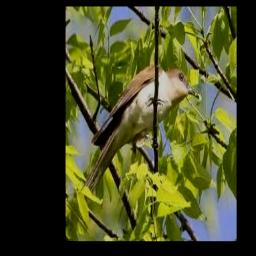Cuckoo: (80, 66, 199, 208)
